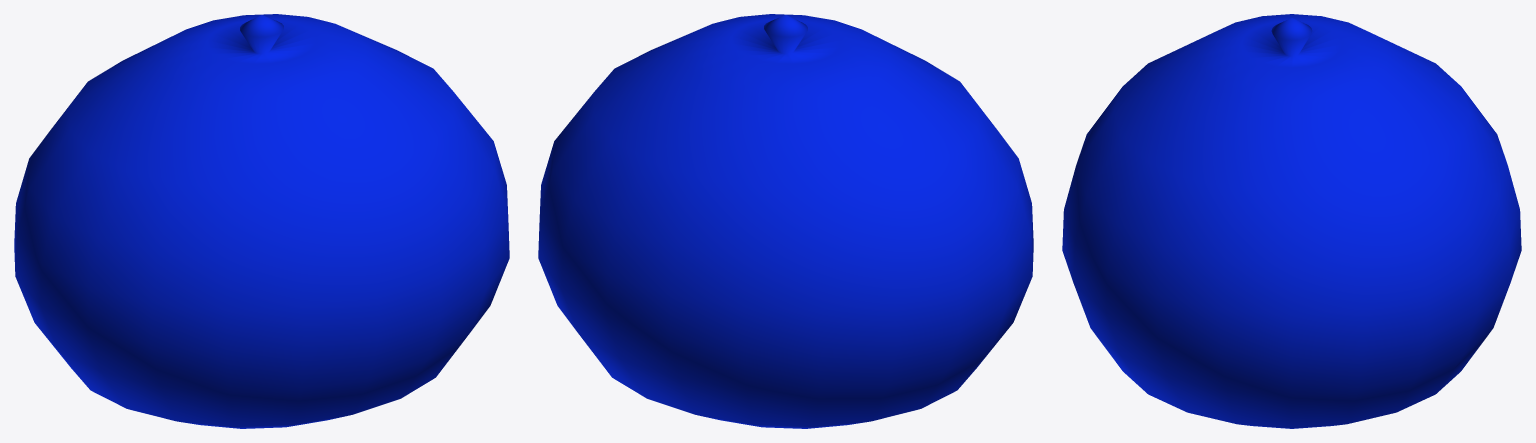
Rendered from S_Orange.fbx.
The picture shows the model from 3 angles, left to right: view 1: azimuth 30°, elevation 25°; view 2: azimuth 150°, elevation 25°; view 3: azimuth 270°, elevation 25°; orthographic projection.
Parts seen in each view (by area): view 1: Cylinder.003_low; view 2: Cylinder.003_low; view 3: Cylinder.003_low.
Boxes of the visible parts, x1,y1,x2,y2 form: Cylinder.003_low: (14,14,509,428); Cylinder.003_low: (538,14,1033,428); Cylinder.003_low: (1062,14,1521,428).
Bounding box in the file's own units: 0.1564 × 0.1206 × 0.1429.
